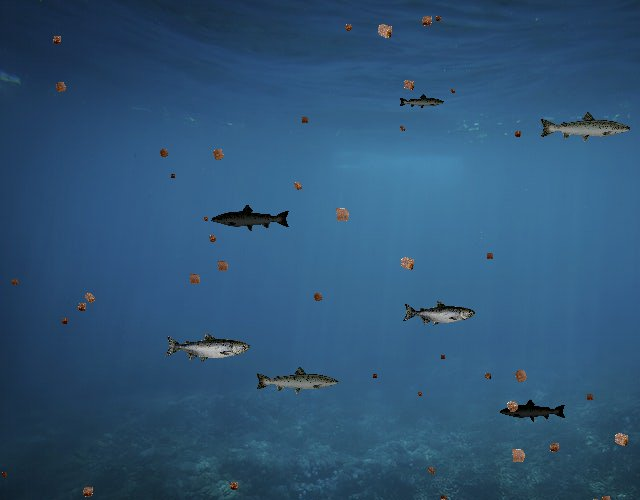Fish: (539, 110, 633, 144), (254, 365, 340, 396), (164, 332, 250, 363), (211, 203, 292, 233), (403, 300, 476, 326), (499, 399, 567, 423), (398, 94, 445, 111)
Pellet: (508, 363, 534, 389), (500, 394, 525, 419), (78, 287, 100, 309), (480, 369, 494, 383), (510, 127, 524, 141), (432, 12, 445, 25), (200, 214, 210, 224)
